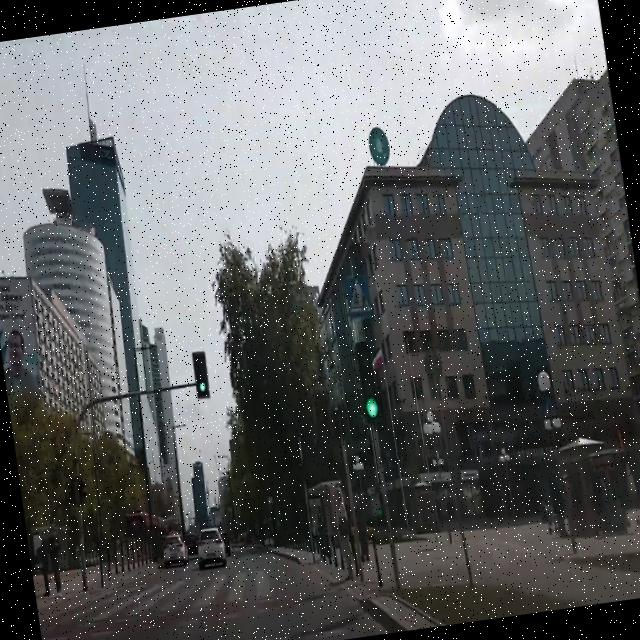Przejscie dla pieszych: (542, 396, 556, 418)
